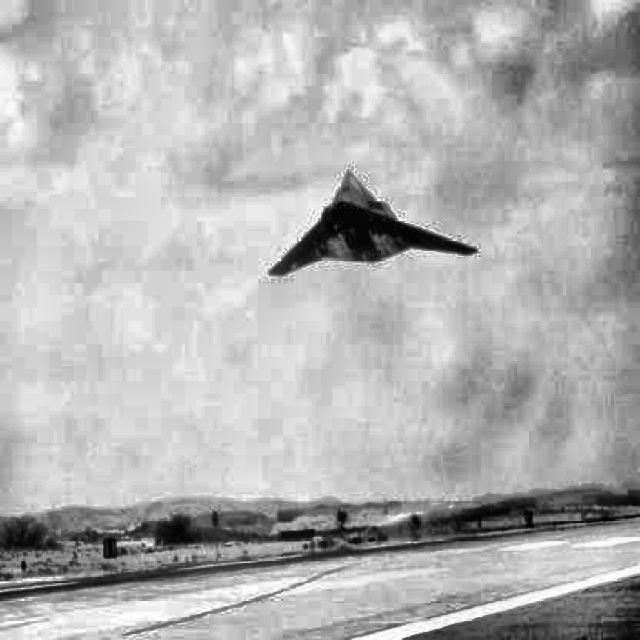F117: (267, 168, 479, 278)
